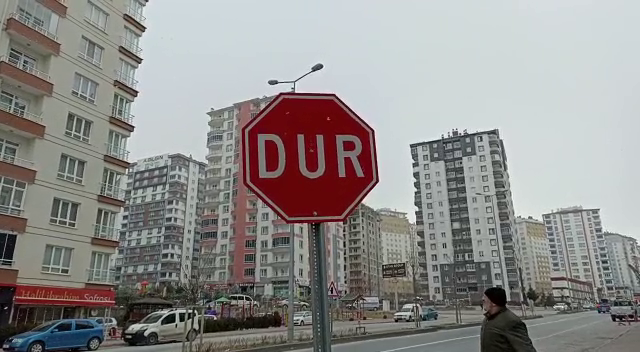stop: (240, 91, 382, 225)
